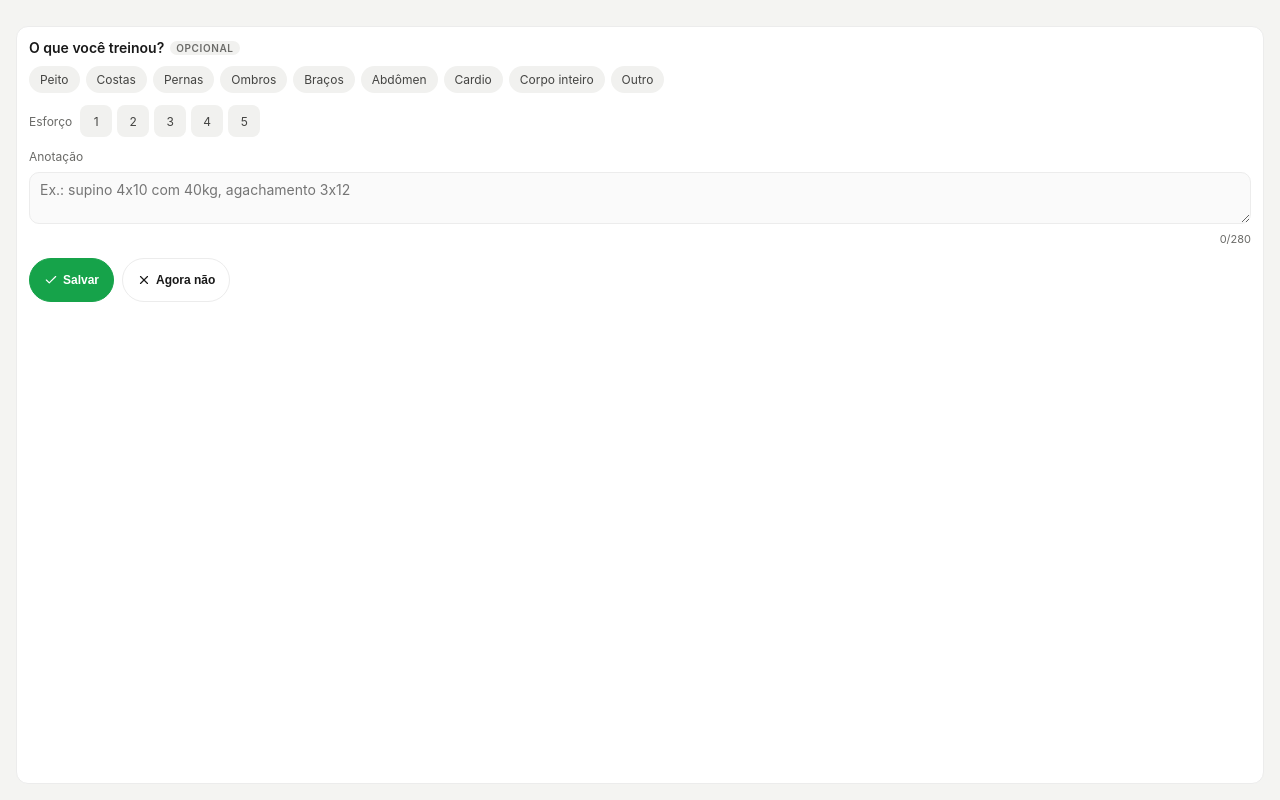
it: RegistroTreino › tipo de treino › no teto, desabilita os nao marcados em vez de ignorar o clique
Click the button "Peito" at x=54, y=80, box [29,66,80,93]
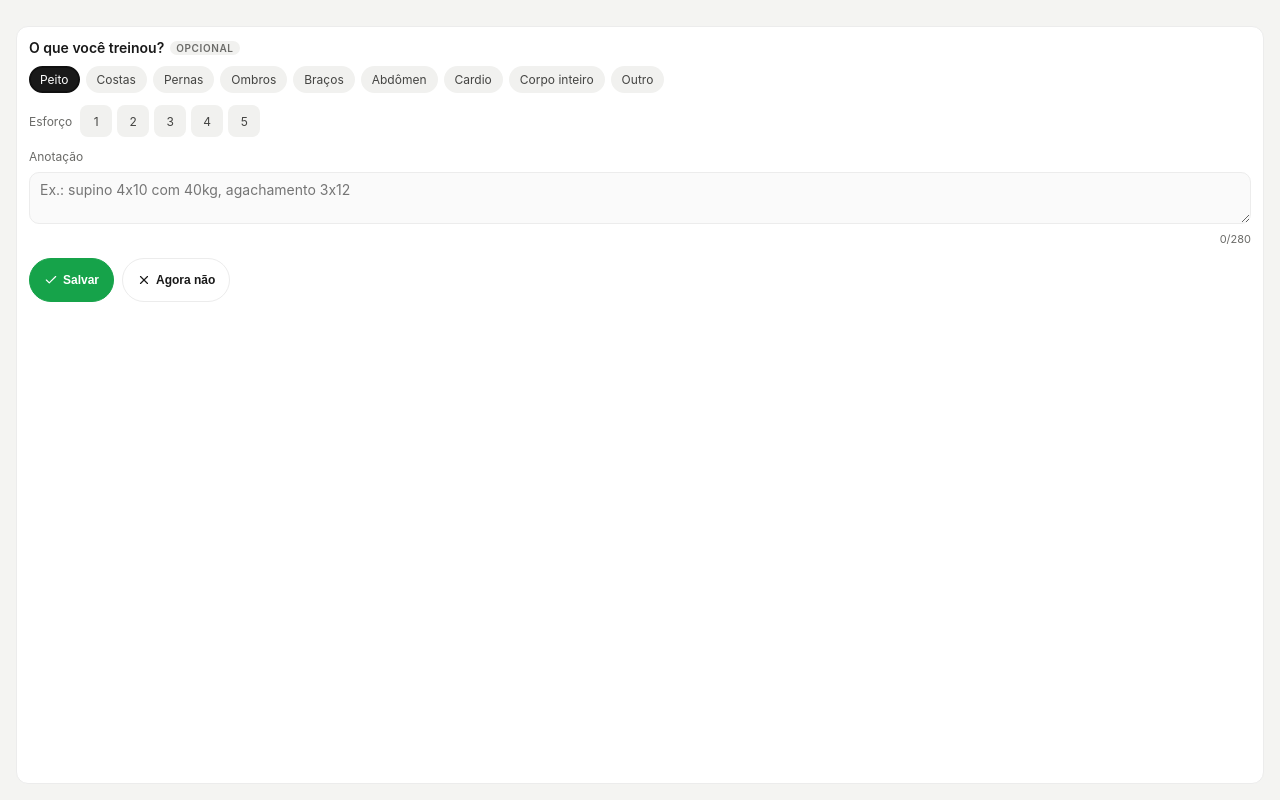
Click the button "Costas" at x=116, y=80, box [86,66,147,93]
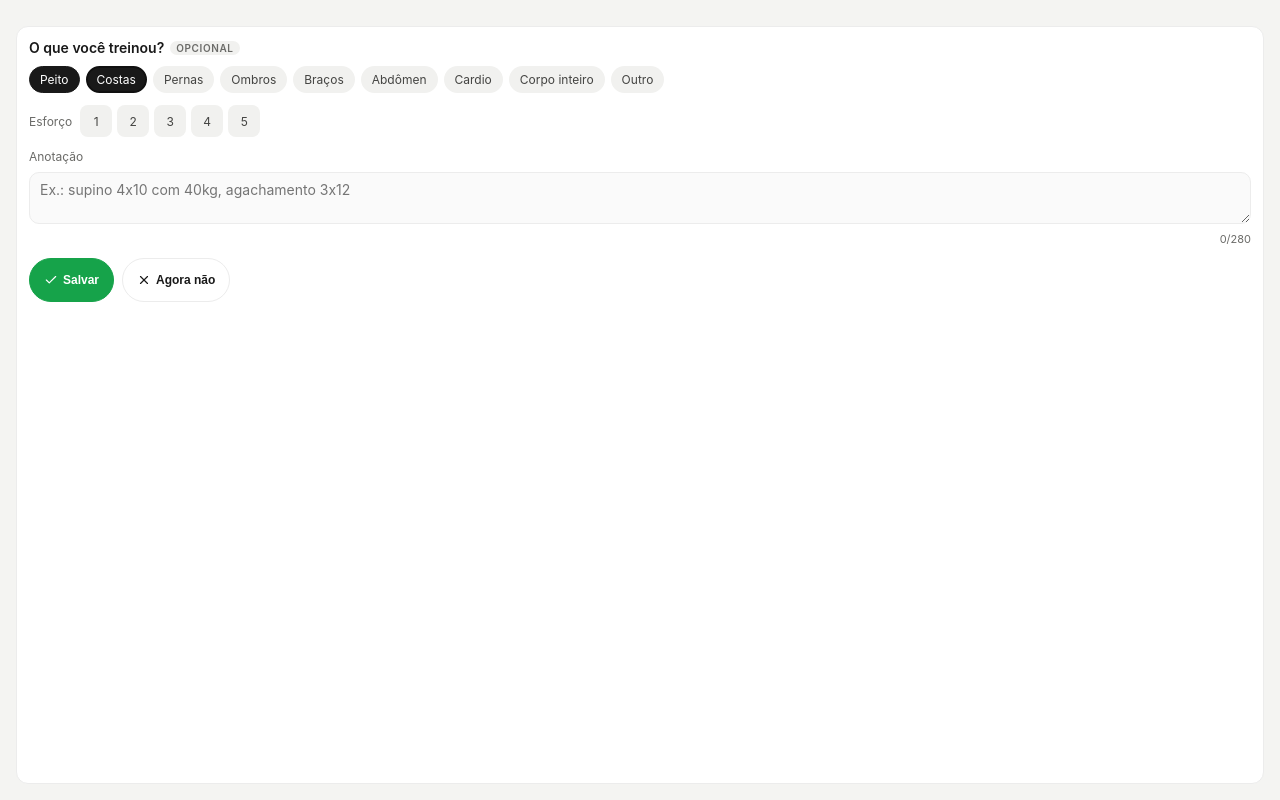
Click the button "Pernas" at x=184, y=80, box [153,66,214,93]
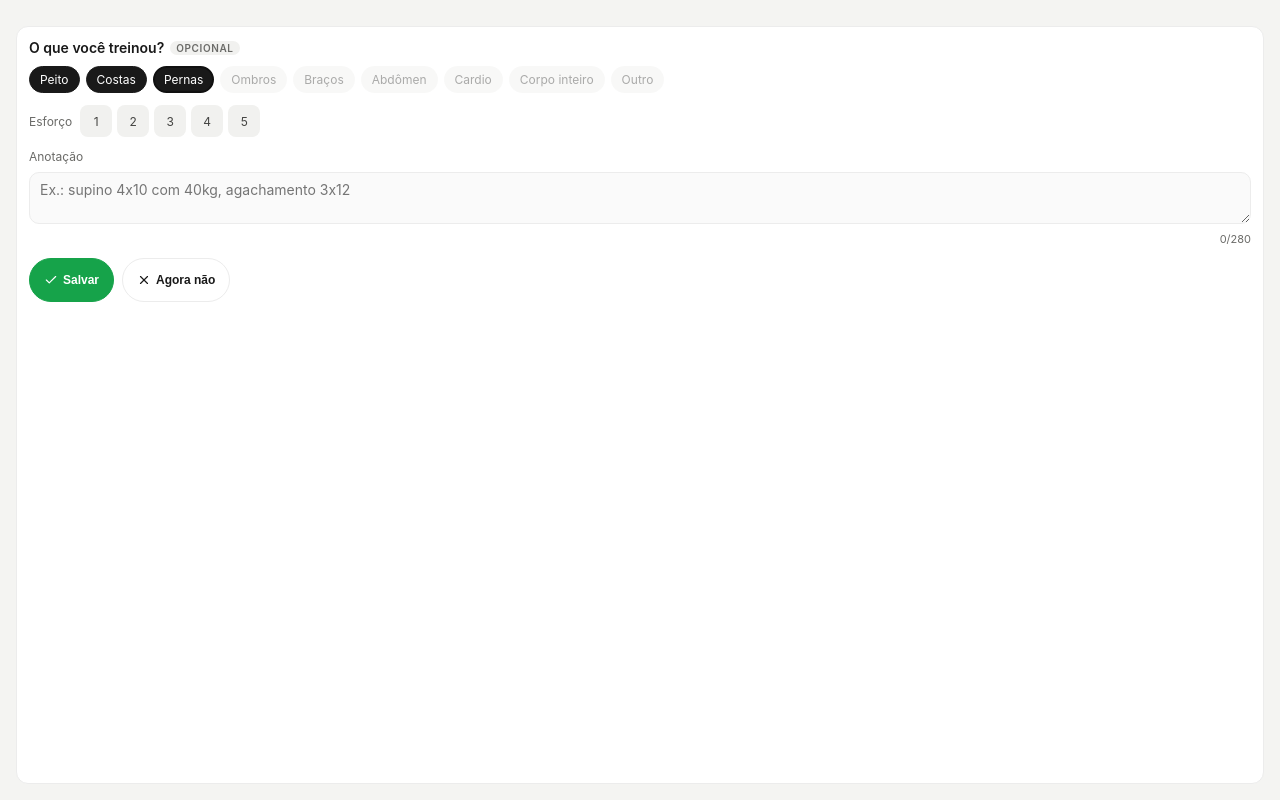
Expected: the button "Peito" is enabled, [29,66,80,93]
Expected: the button "Ombros" is disabled, [220,66,287,93]
